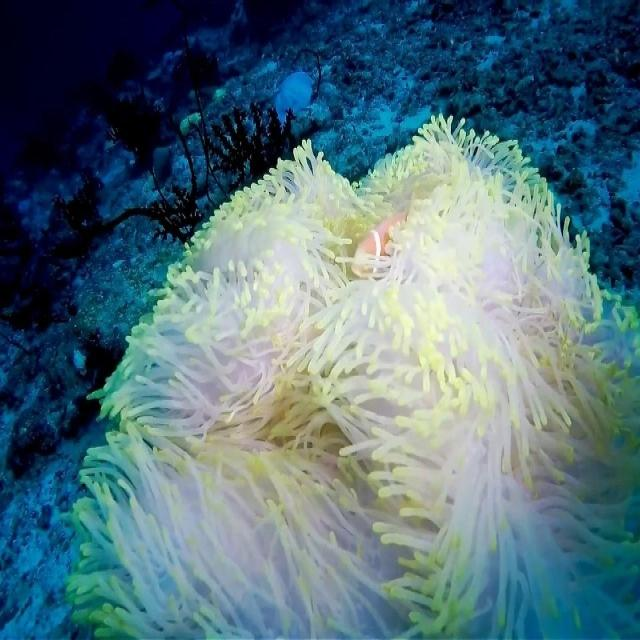fish: (337, 211, 407, 258), (349, 263, 390, 278)
reefs: (59, 112, 639, 639)
